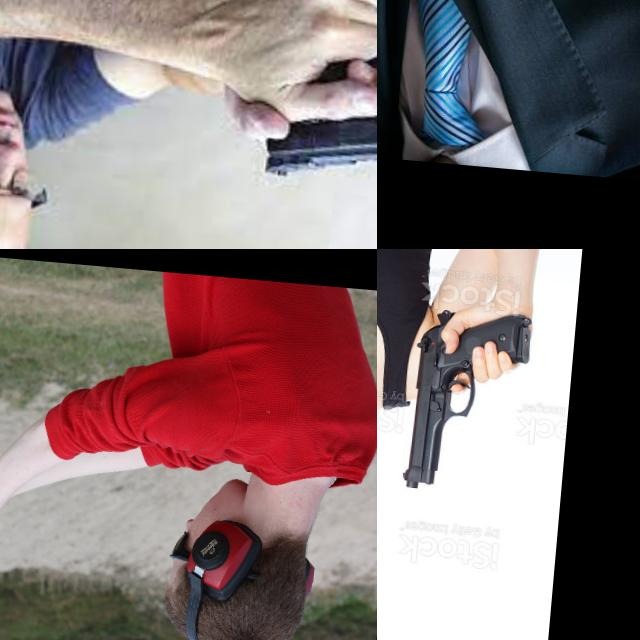handgun: (397, 300, 538, 502), (256, 39, 377, 202), (377, 0, 502, 145), (0, 496, 50, 556)
